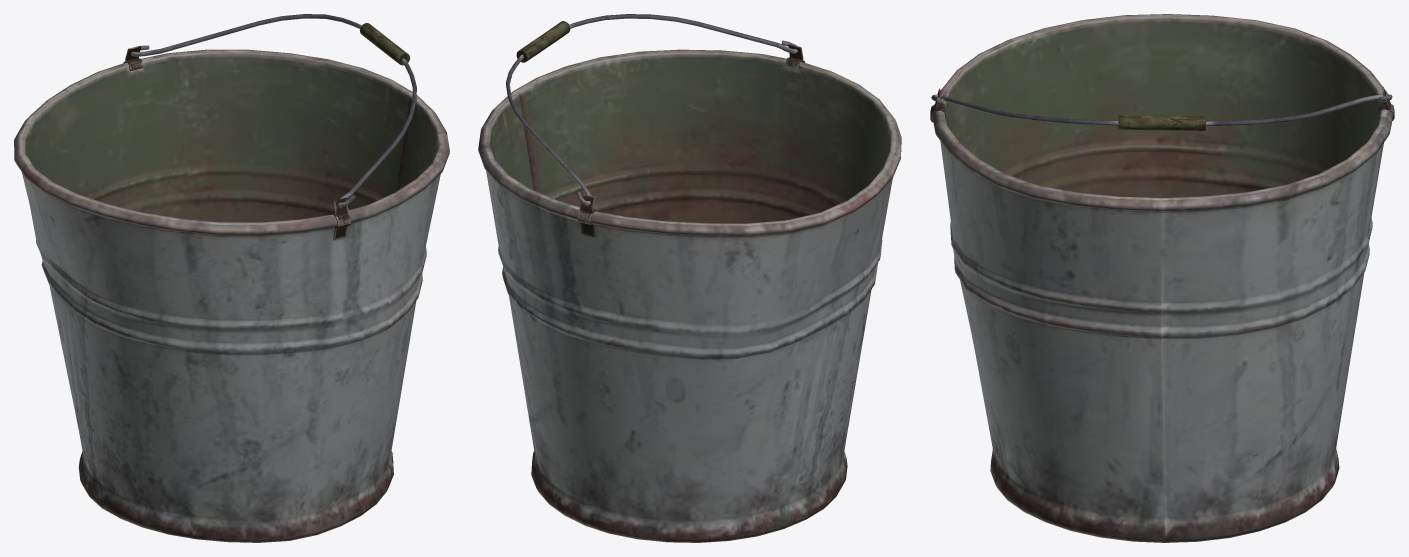
Rendered from bucket.glb.
3 views of the same model, side by side, from view 1: azimuth 30°, elevation 25°; view 2: azimuth 150°, elevation 25°; view 3: azimuth 270°, elevation 25° (orthographic). The views are drawn at different scales.
Visible parts, largest first — view 1: Bucket_HP; view 2: Bucket_HP; view 3: Bucket_HP.
Boxes of the visible parts, box(x1,y1,x2,y2) form: Bucket_HP: box(14, 14, 449, 542); Bucket_HP: box(478, 14, 901, 542); Bucket_HP: box(930, 14, 1394, 542).
Bounding box in the file's own units: 1.69 × 1.76 × 1.7.
Materials: 1 (1 with a texture image).
